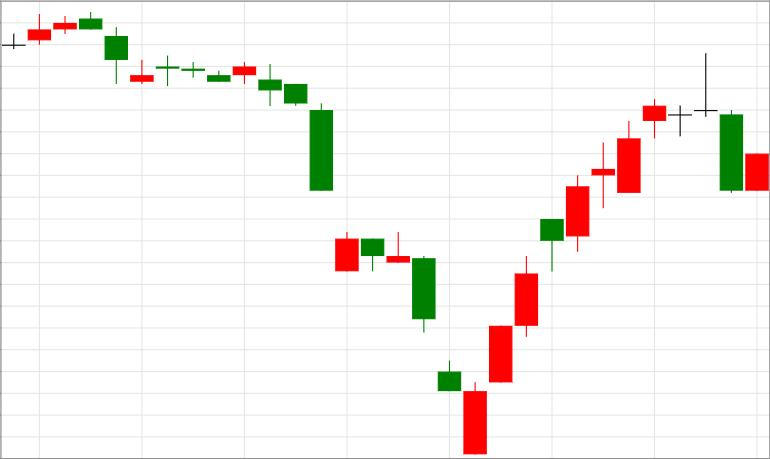three_white_soldiers_rise: (361, 232, 538, 454)
